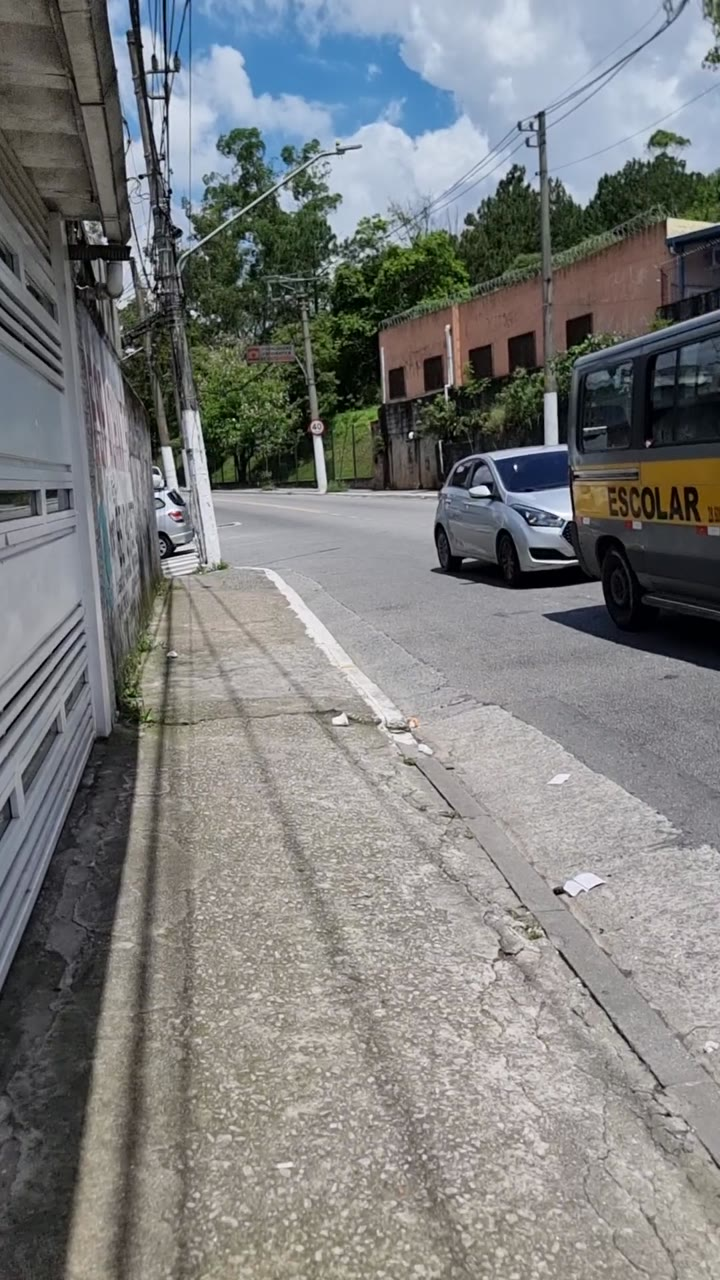obstaculo: (122, 2, 218, 570)
